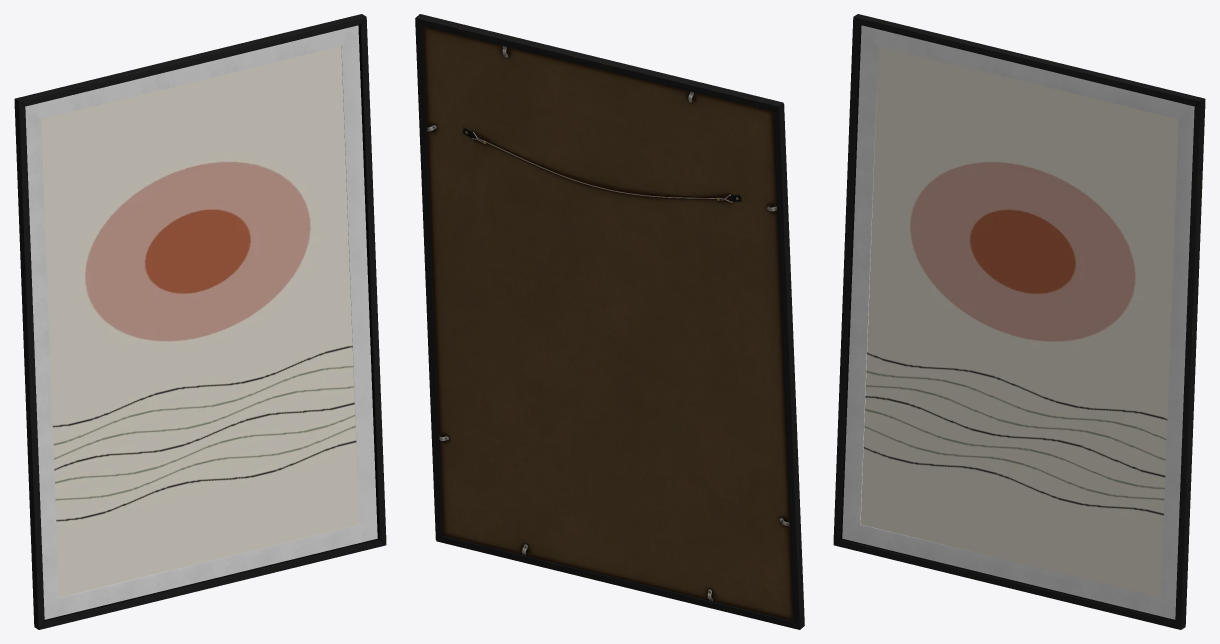
3 views of the same model, side by side, from view 1: azimuth 30°, elevation 25°; view 2: azimuth 150°, elevation 25°; view 3: azimuth 330°, elevation 25° (orthographic). The views are drawn at different scales.
Parts seen in each view (by area): view 1: hanging_picture_frame_01; view 2: hanging_picture_frame_01; view 3: hanging_picture_frame_01.
Boxes of the visible parts, left/top/right/bottom form: hanging_picture_frame_01: left=14, top=14, right=386, bottom=629; hanging_picture_frame_01: left=415, top=14, right=804, bottom=629; hanging_picture_frame_01: left=833, top=14, right=1205, bottom=629.
Size of the model in its own units: 0.4158 by 0.5878 by 0.0508.
2 materials, 2 textured.
